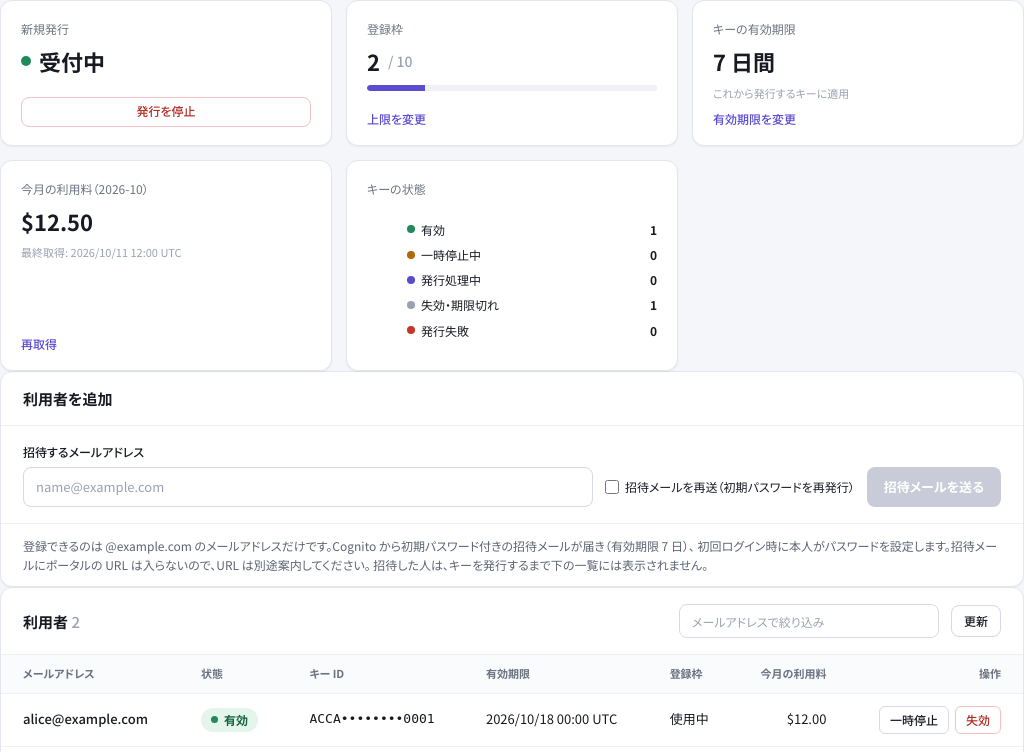
Scenario: AdminView › invites a participant on an allowed domain
Check: the button "招待メールを送る" is disabled, box [867,467,1001,507]
Type " Carol@Example.com " into the field labelled "招待するメールアドレス" at (308, 487), box [23,467,593,507]
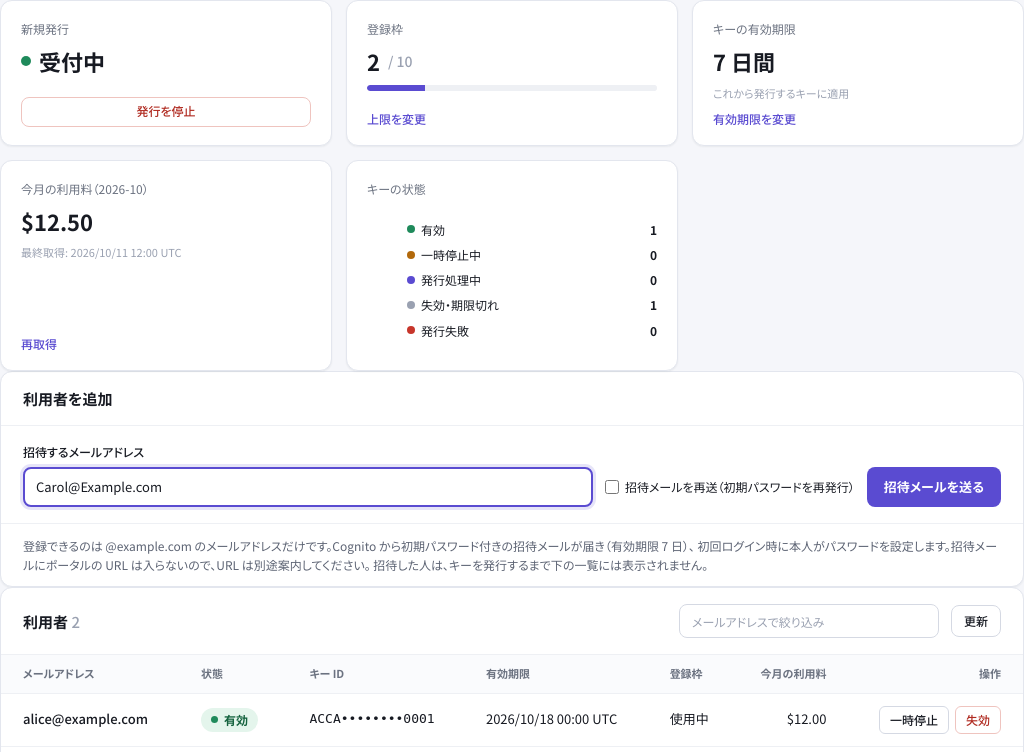
Click the button "招待メールを送る" at (934, 487), box [867,467,1001,507]
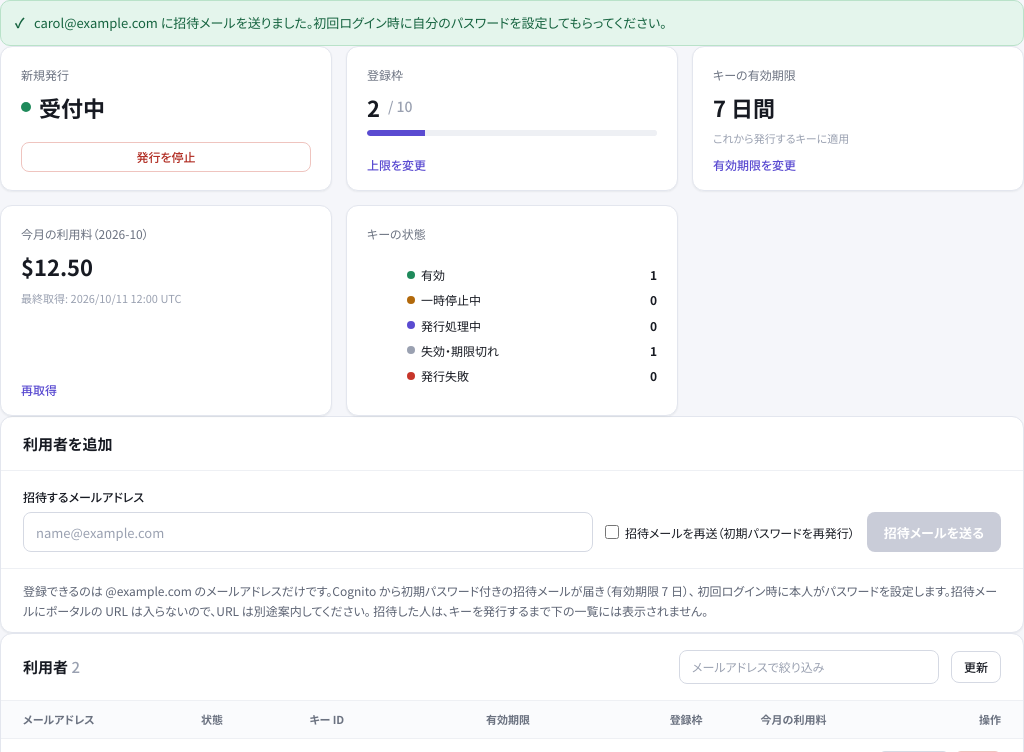
Check: the text "carol@example.com に招待メールを送りました" is shown, box [34,13,667,32]
Check: the field labelled "招待するメールアドレス" is empty, box [23,512,593,552]
